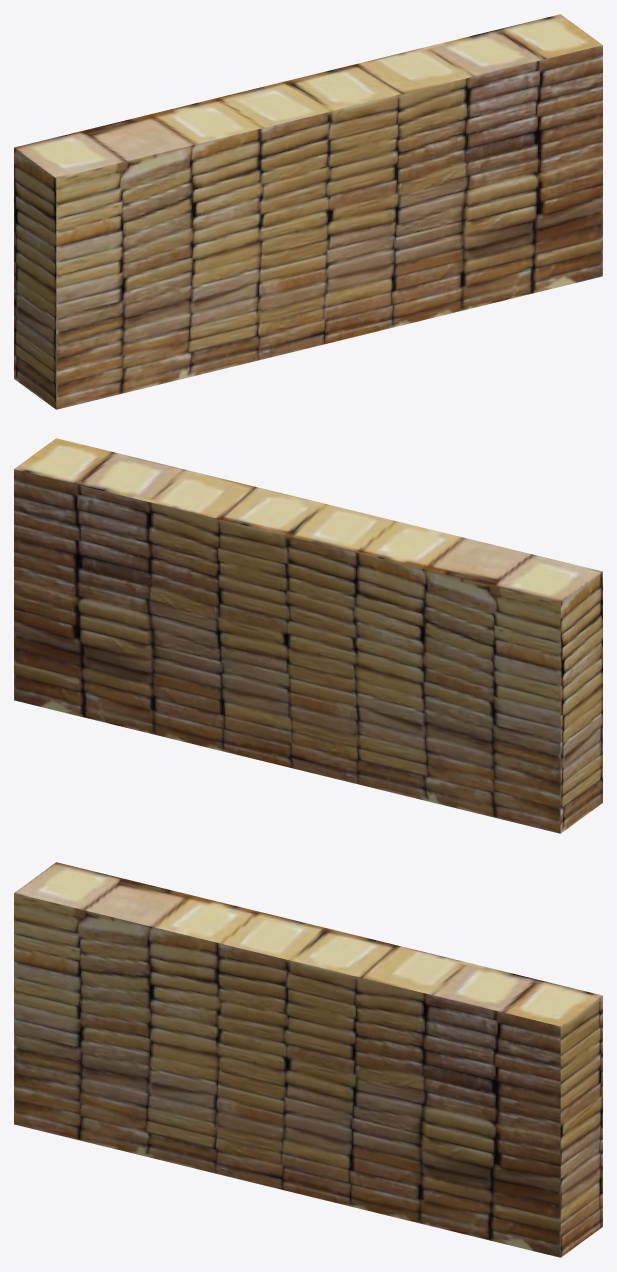
File: cocaine_ton_3.FBX
The picture shows the model from 3 angles, top to bottom: view 1: azimuth 30°, elevation 25°; view 2: azimuth 150°, elevation 25°; view 3: azimuth 330°, elevation 25°; orthographic projection.
Visible parts, largest first — view 1: cocaine_ton_3; view 2: cocaine_ton_3; view 3: cocaine_ton_3.
Boxes of the visible parts, box(x1,y1,x2,y2) form: cocaine_ton_3: box(14, 14, 602, 409); cocaine_ton_3: box(14, 438, 602, 833); cocaine_ton_3: box(14, 862, 602, 1257).
Bounding box in the file's own units: 205 × 82.84 × 27.47.
